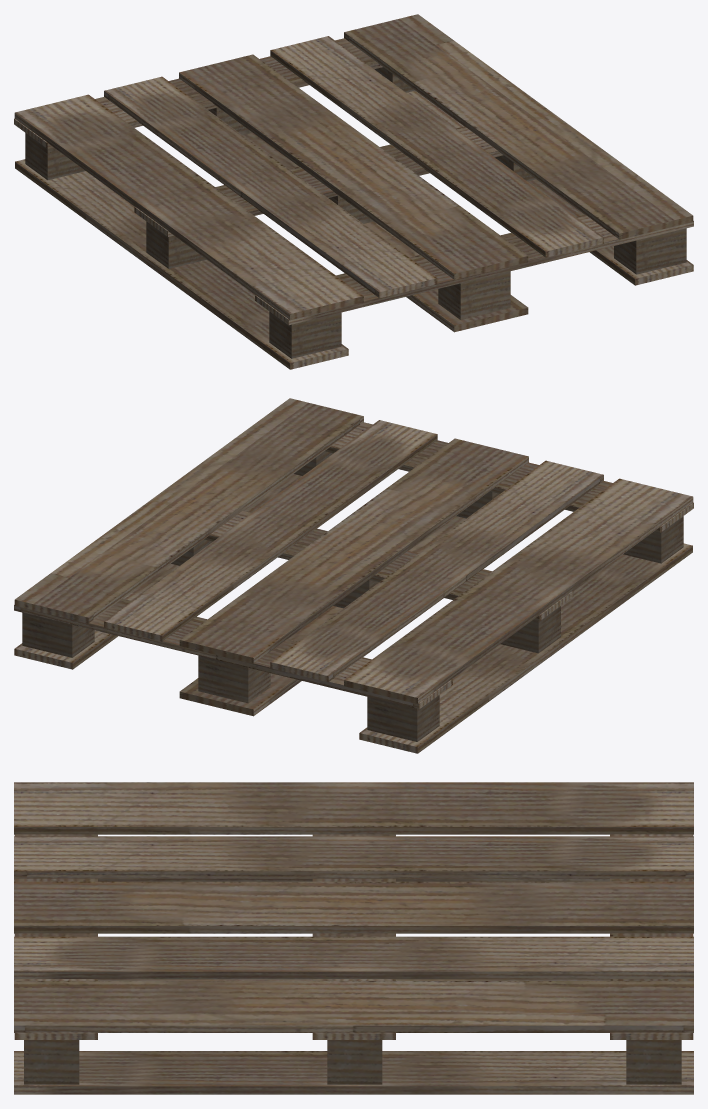
Rendered from pallet.glb.
3 renders of one model, top to bottom at view 1: azimuth 30°, elevation 25°; view 2: azimuth 150°, elevation 25°; view 3: azimuth 270°, elevation 25°, orthographic. The views are drawn at different scales.
Parts seen in each view (by area): view 1: stktex_generic_WoodG.png__; view 2: stktex_generic_WoodG.png__; view 3: stktex_generic_WoodG.png__.
Part boxes in pixels (bbox=[...]): stktex_generic_WoodG.png__: bbox=[14, 14, 693, 369]; stktex_generic_WoodG.png__: bbox=[14, 398, 693, 753]; stktex_generic_WoodG.png__: bbox=[14, 782, 693, 1094].
Bounding box in the file's own units: 2.58 × 0.3553 × 3.04.
1 material, 1 textured.
